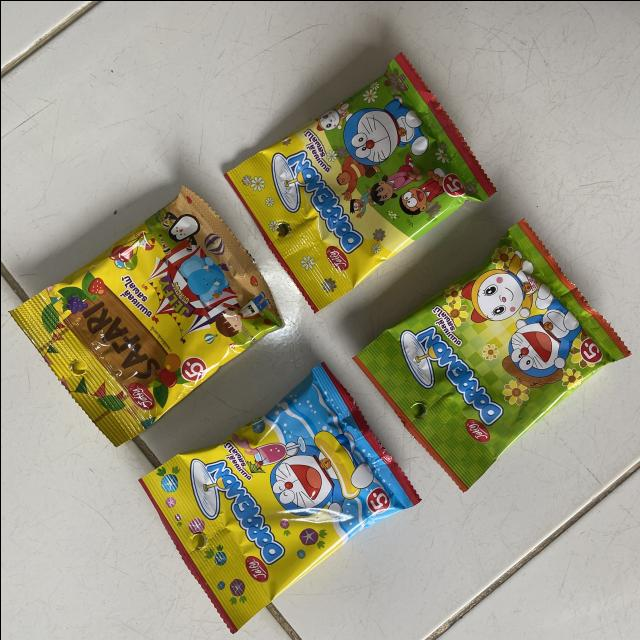plastik: (139, 364, 420, 631), (353, 219, 628, 491), (10, 187, 281, 445), (225, 53, 494, 311)
